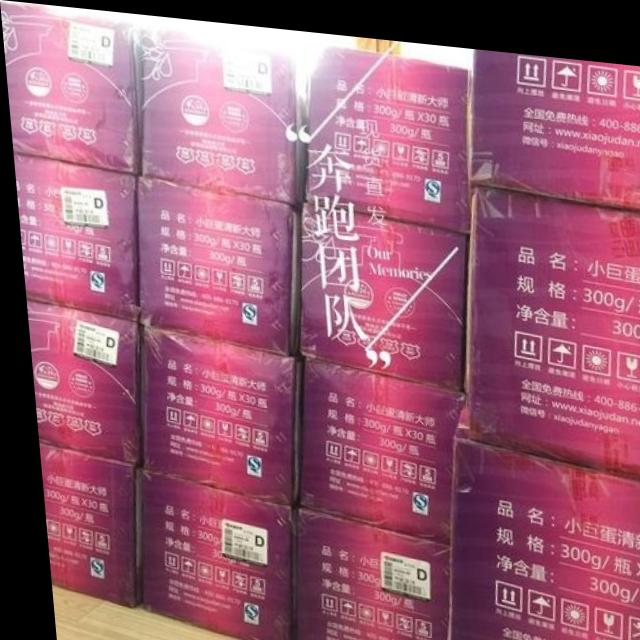box: (453, 175, 640, 464), (440, 429, 640, 640), (286, 351, 458, 540), (294, 194, 465, 381), (303, 41, 471, 226), (139, 24, 311, 202), (133, 323, 300, 503), (134, 173, 300, 353), (467, 39, 640, 198), (131, 467, 282, 640), (0, 4, 140, 172), (284, 503, 440, 640), (11, 155, 134, 321), (21, 297, 135, 465), (31, 442, 130, 607)
